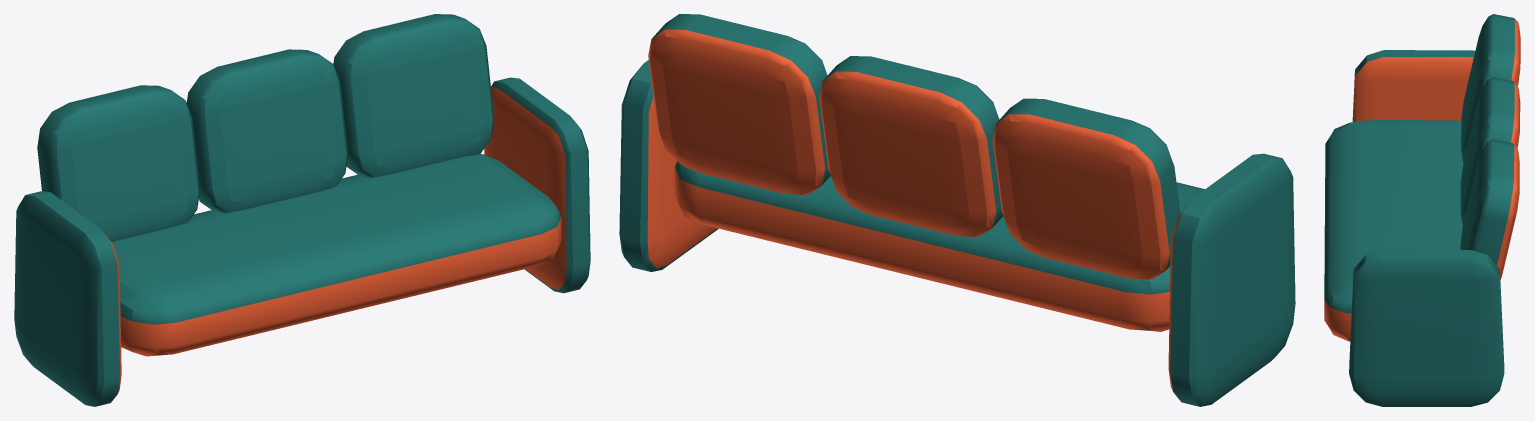
The model's file is SM_Y_03_Sofa_02.fbx.
The picture shows the model from 3 angles, left to right: view 1: azimuth 30°, elevation 25°; view 2: azimuth 150°, elevation 25°; view 3: azimuth 270°, elevation 25°; orthographic projection. The views are drawn at different scales.
Parts seen in each view (by area): view 1: SM_Y_03_Sofa_02; view 2: SM_Y_03_Sofa_02; view 3: SM_Y_03_Sofa_02.
Part boxes in pixels (<box>): SM_Y_03_Sofa_02: <box>14,14,590,406</box>; SM_Y_03_Sofa_02: <box>619,14,1295,406</box>; SM_Y_03_Sofa_02: <box>1324,14,1520,406</box>.
Bounding box in the file's own units: 261 × 118 × 101.
